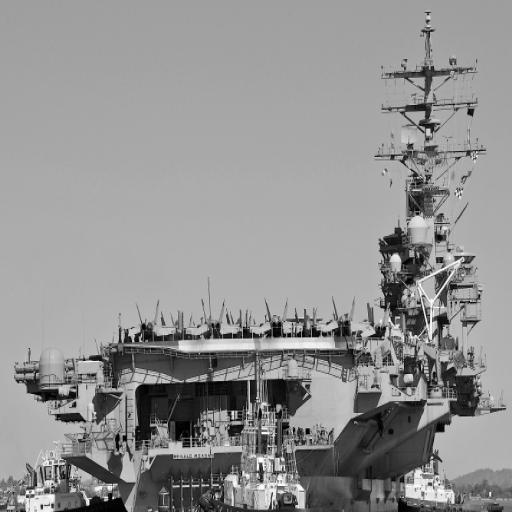Portanaves: (14, 1, 503, 512)
